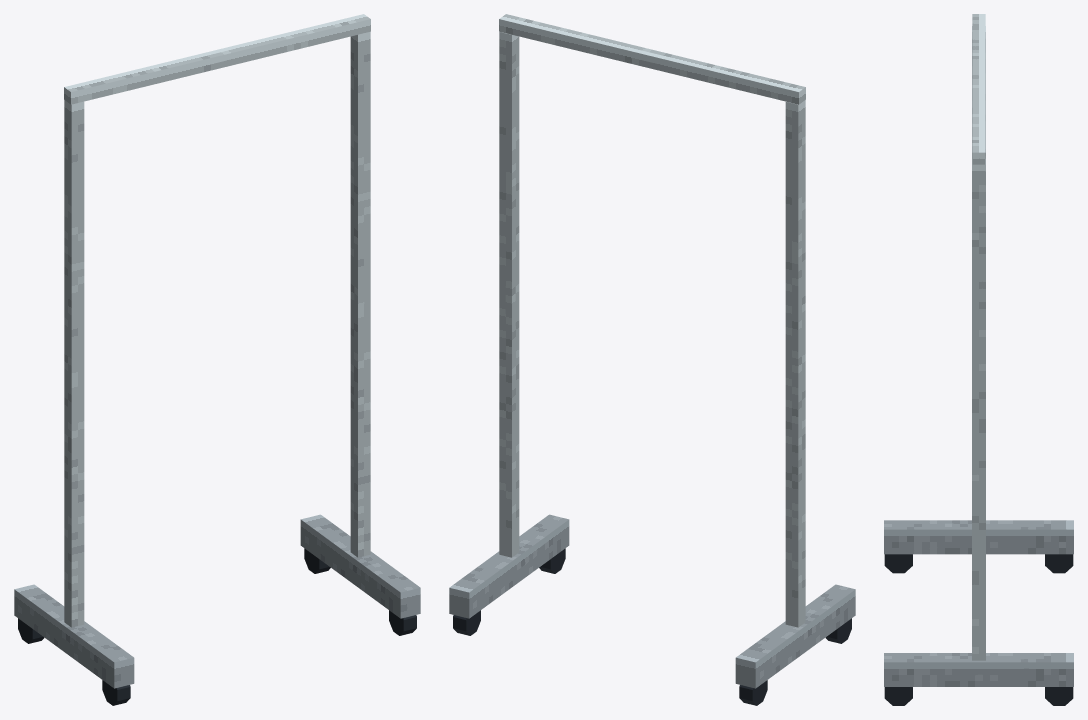
File: f_clothing_rail.glb
The picture shows the model from 3 angles, left to right: view 1: azimuth 30°, elevation 25°; view 2: azimuth 150°, elevation 25°; view 3: azimuth 270°, elevation 25°; orthographic projection. The views are drawn at different scales.
Parts seen in each view (by area): view 1: block_upright--0.43, block_upright-0.43, block_hanging-rail, block_caster-base--0.43, block_caster-base-0.43; view 2: block_upright--0.43, block_upright-0.43, block_hanging-rail, block_caster-base--0.43, block_caster-base-0.43; view 3: block_upright-0.43, block_caster-base-0.43, block_caster-base--0.43, block_hanging-rail, block_wheel--0.43--0.22, block_wheel--0.43-0.22, block_wheel-0.43--0.22, block_wheel-0.43-0.22.
Part boxes in pixels (bbox=[...]): block_upright--0.43: bbox=[64, 100, 84, 627]; block_upright-0.43: bbox=[350, 31, 370, 557]; block_hanging-rail: bbox=[64, 14, 370, 104]; block_caster-base--0.43: bbox=[14, 584, 134, 688]; block_caster-base-0.43: bbox=[300, 514, 420, 618]; block_upright--0.43: bbox=[785, 100, 805, 627]; block_upright-0.43: bbox=[499, 31, 519, 557]; block_hanging-rail: bbox=[499, 14, 805, 104]; block_caster-base--0.43: bbox=[735, 584, 855, 688]; block_caster-base-0.43: bbox=[449, 514, 569, 618]; block_upright-0.43: bbox=[972, 159, 985, 660]; block_caster-base-0.43: bbox=[884, 653, 1073, 686]; block_caster-base--0.43: bbox=[884, 520, 1073, 554]; block_hanging-rail: bbox=[972, 14, 985, 164]; block_wheel--0.43--0.22: bbox=[1045, 554, 1073, 573]; block_wheel--0.43-0.22: bbox=[884, 554, 912, 573]; block_wheel-0.43--0.22: bbox=[1045, 687, 1073, 705]; block_wheel-0.43-0.22: bbox=[884, 687, 912, 705].
Size of the model in its own units: 0.92 by 1.67 by 0.52.
Materials: 1 (1 with a texture image).
